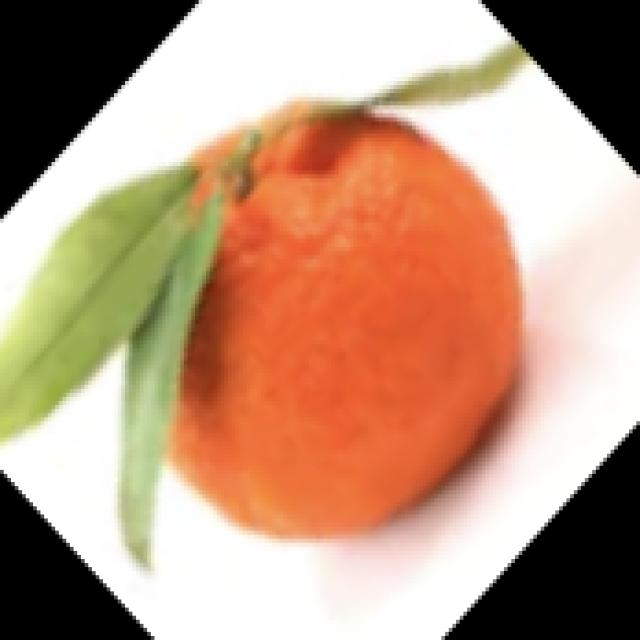fresh: (3, 53, 537, 597)
